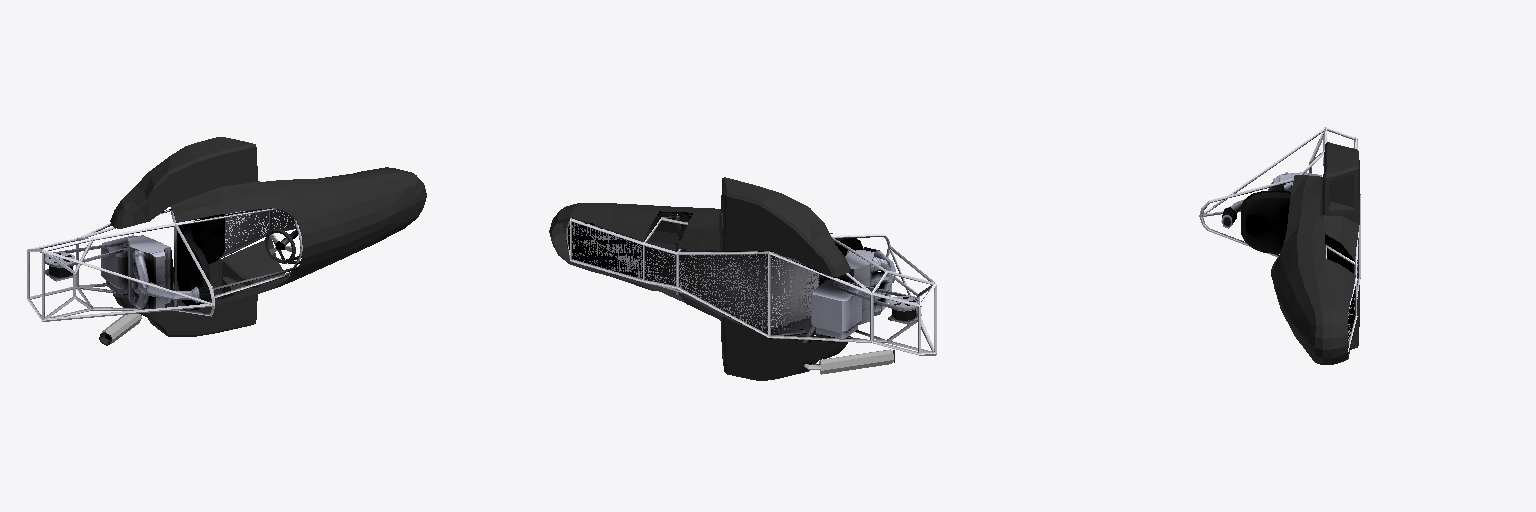
3 renders of one model, left to right at view 1: azimuth 30°, elevation 25°; view 2: azimuth 150°, elevation 25°; view 3: azimuth 270°, elevation 25°, orthographic.
Parts seen in each view (by area): view 1: FSAE_BodyInterior, Details, EngineStuff001, Seat, Object003; view 2: FSAE_BodyInterior, Details, EngineStuff001, Object003; view 3: FSAE_BodyInterior, Seat, Details, EngineStuff001.
Part boxes in pixels (left/top/right/bottom): FSAE_BodyInterior: left=110, top=137, right=426, bottom=336; Details: left=27, top=208, right=302, bottom=321; EngineStuff001: left=45, top=235, right=213, bottom=309; Seat: left=177, top=214, right=224, bottom=309; Object003: left=102, top=314, right=141, bottom=343; FSAE_BodyInterior: left=549, top=177, right=850, bottom=380; Details: left=566, top=211, right=936, bottom=369; EngineStuff001: left=811, top=247, right=921, bottom=338; Object003: left=819, top=349, right=893, bottom=374; FSAE_BodyInterior: left=1272, top=142, right=1359, bottom=364; Seat: left=1241, top=191, right=1353, bottom=273; Details: left=1199, top=127, right=1360, bottom=351; EngineStuff001: left=1221, top=157, right=1323, bottom=228.
Size of the model in its own units: 2.89 by 1.31 by 1.06.
7 materials, 4 textured.